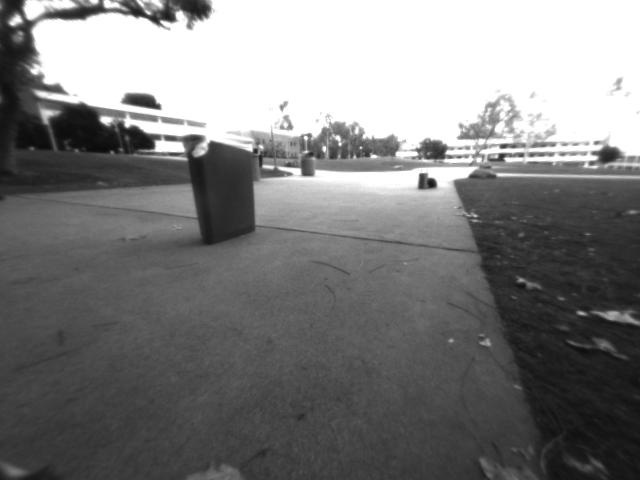trashcan_open: (181, 131, 258, 245)
